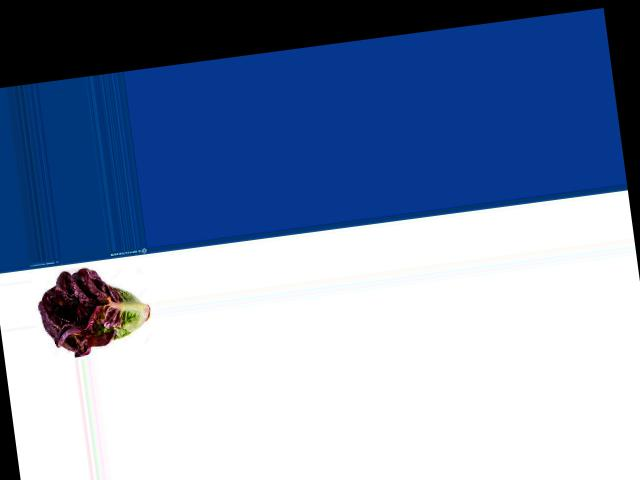lettuce: (35, 260, 155, 358)
